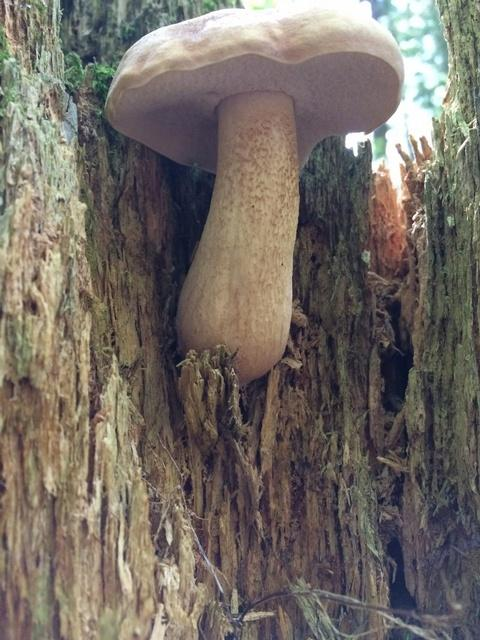poisonous_mushroom: (102, 1, 405, 386)
